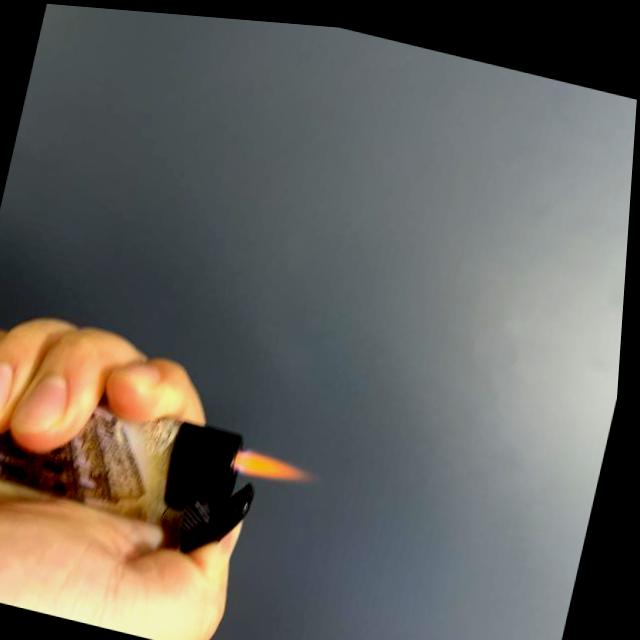Fire: (240, 439, 318, 488)
